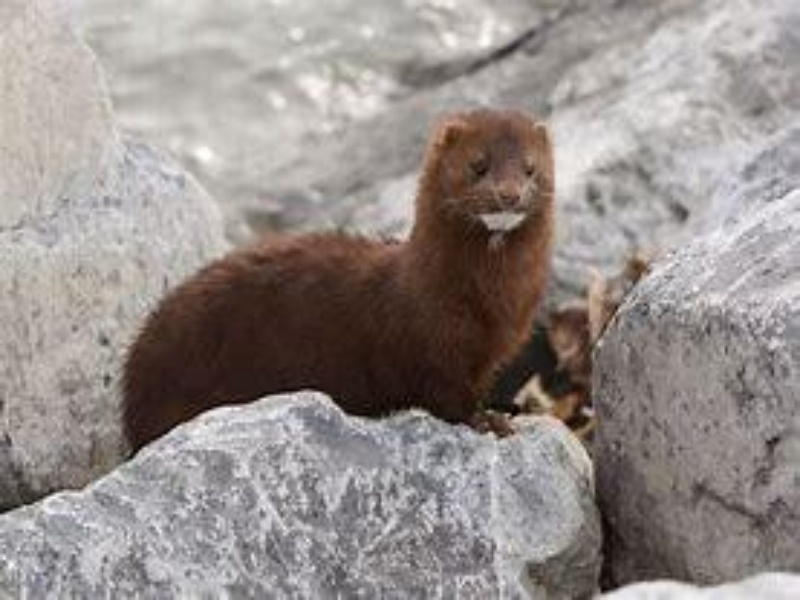minkish: (119, 108, 560, 462)
